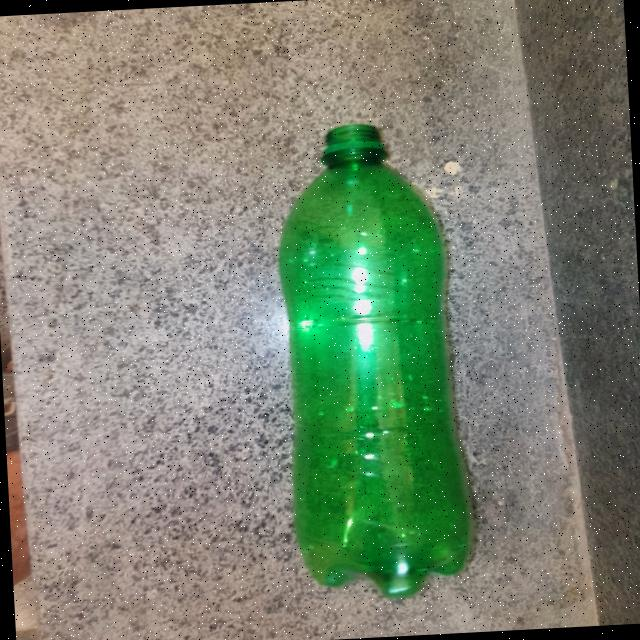bottle: (262, 108, 510, 606)
